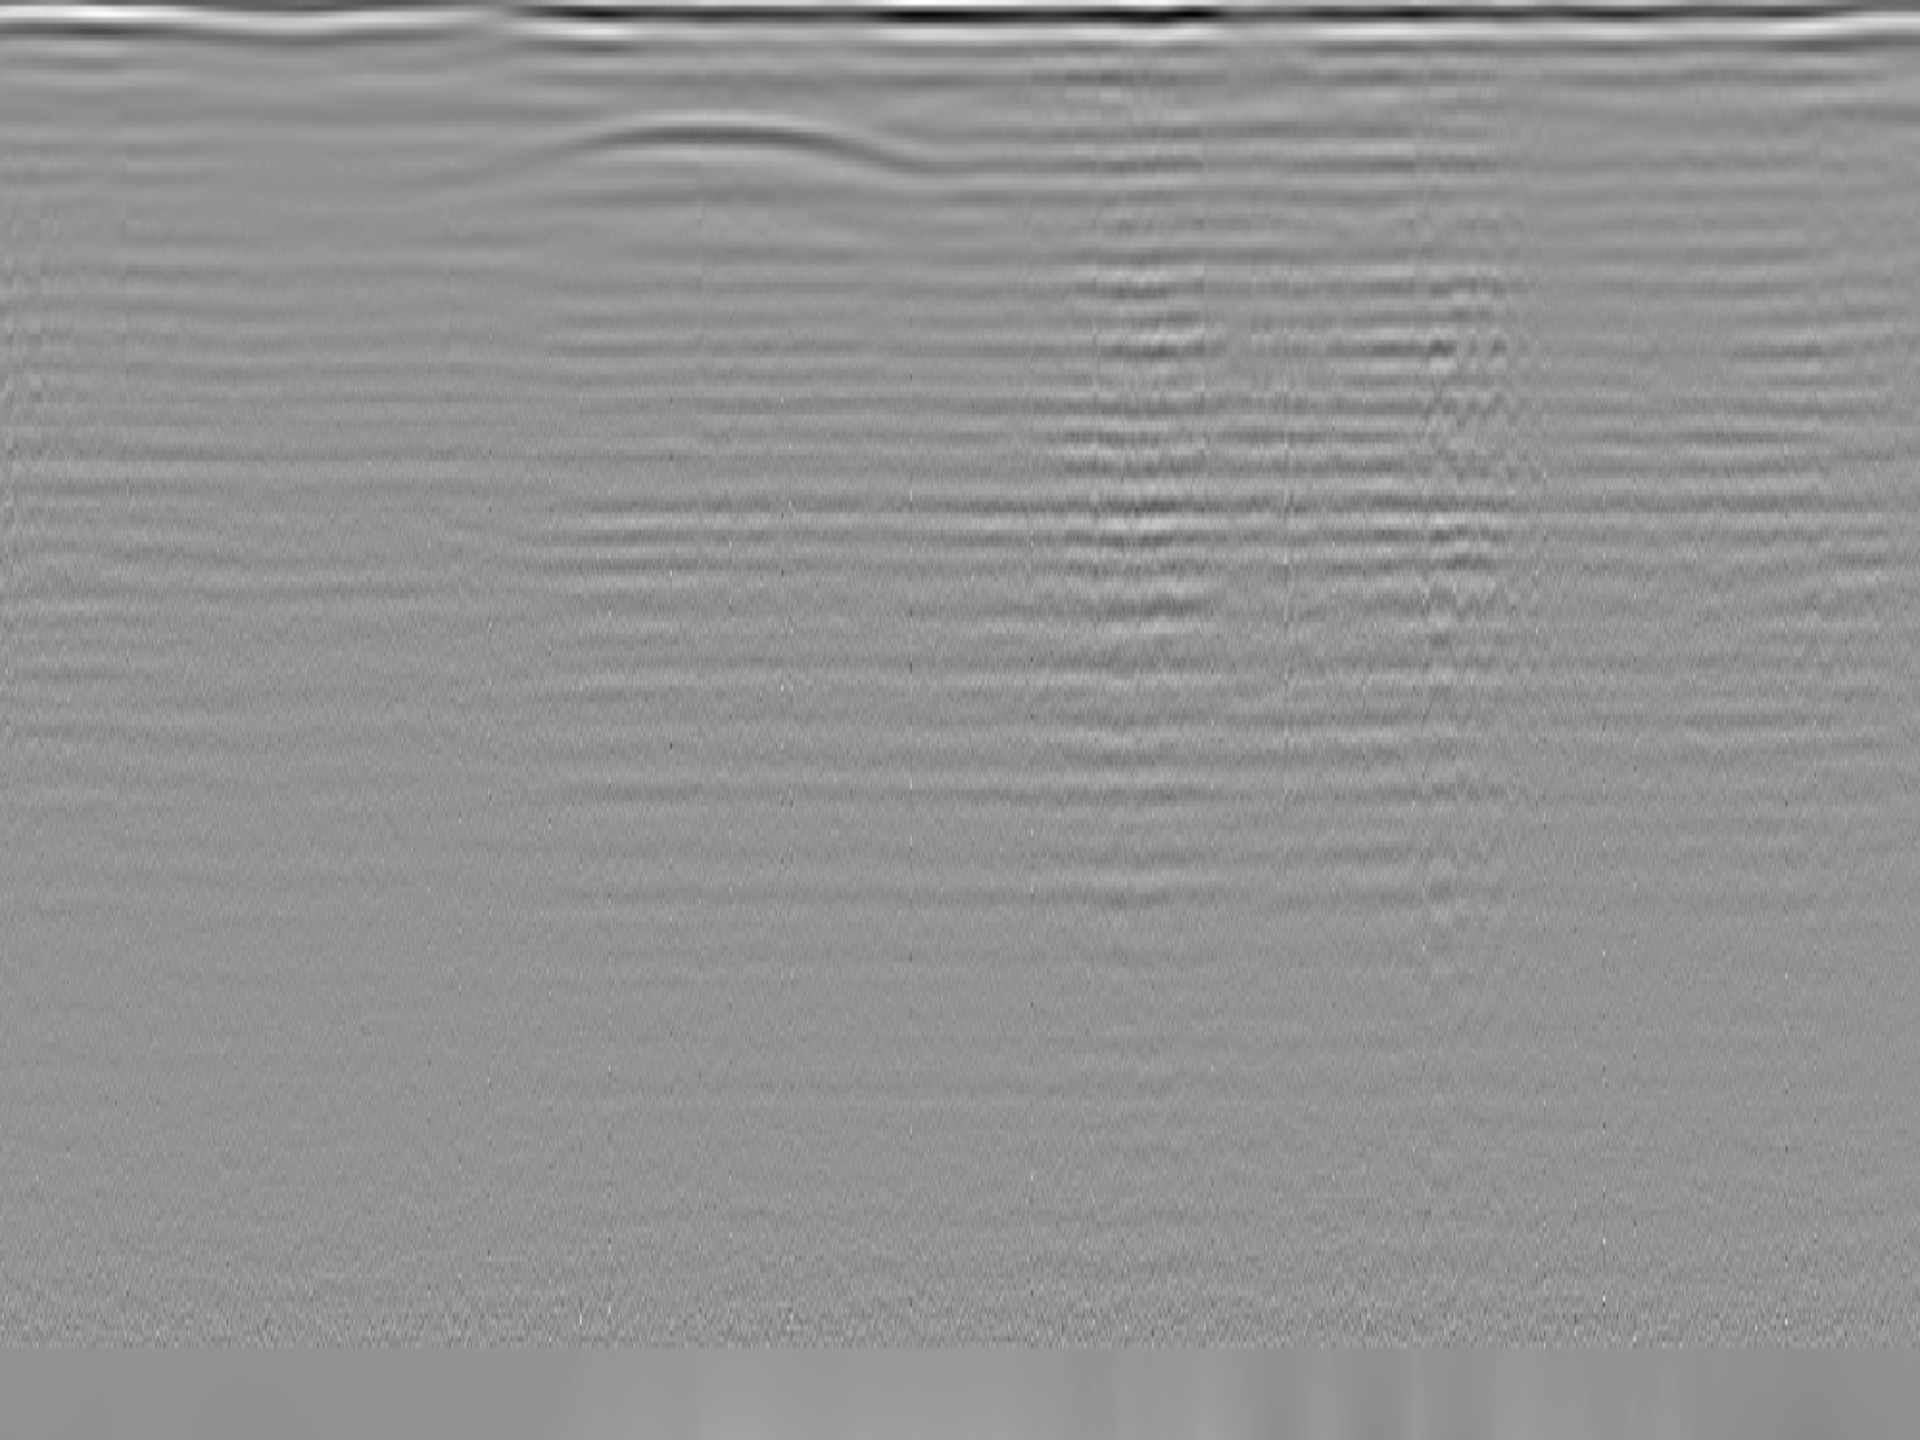Tunnel: (396, 112, 1058, 175)
